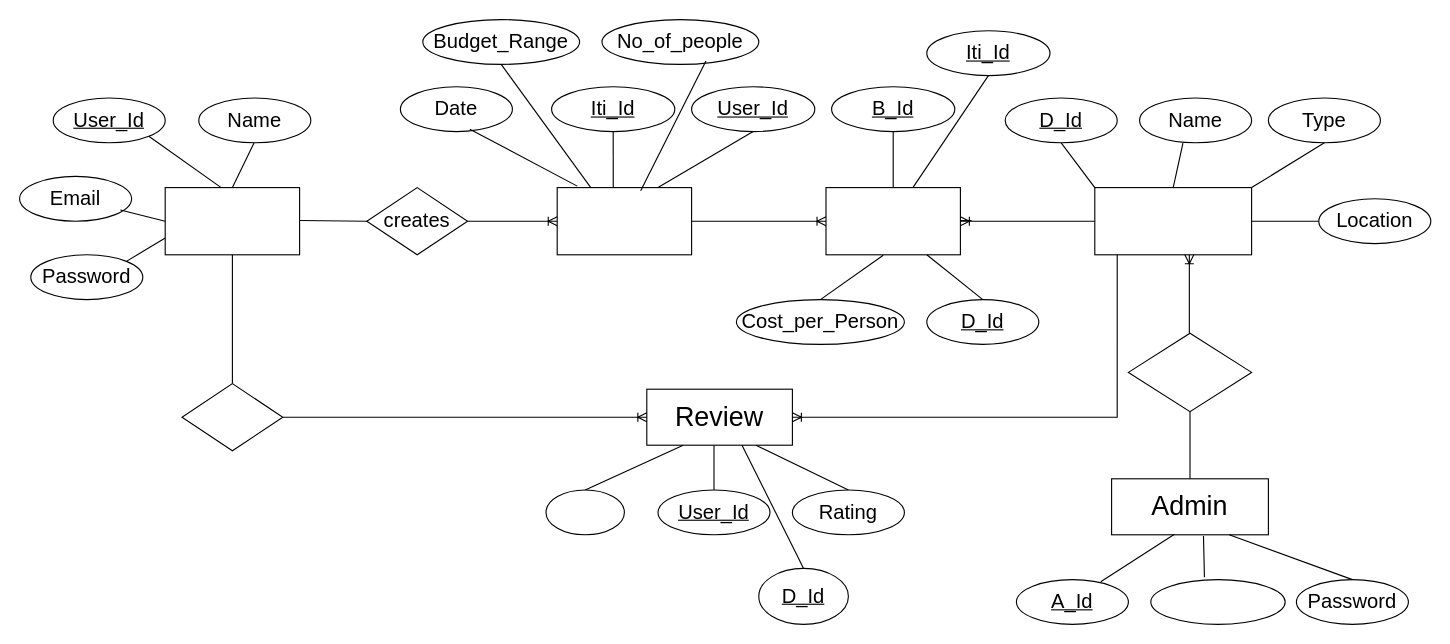
This 1450x644 diagram has some shape labels left out. Each missing label, with the box of its shape:
Booking: (825, 186, 960, 255)
Destination: (1094, 186, 1252, 255)
gives: (181, 382, 283, 451)
Itinerary: (556, 186, 692, 255)
manages: (1127, 332, 1252, 412)
R_Id: (545, 489, 624, 535)
User: (164, 186, 300, 255)
User_Name: (1150, 578, 1285, 624)
